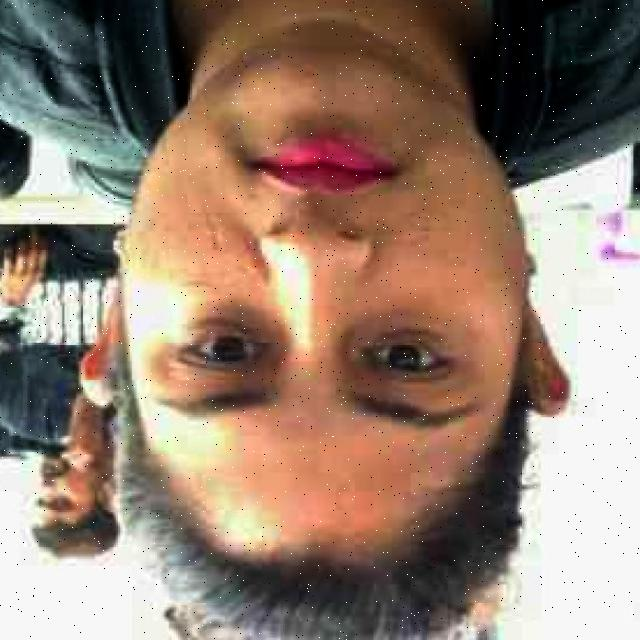puffy_eyes: (341, 312, 439, 371), (184, 307, 281, 343)
